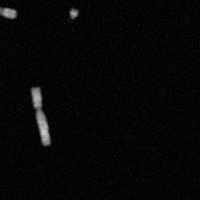chromosome: (32, 85, 52, 146), (0, 5, 17, 19), (70, 8, 80, 20)
